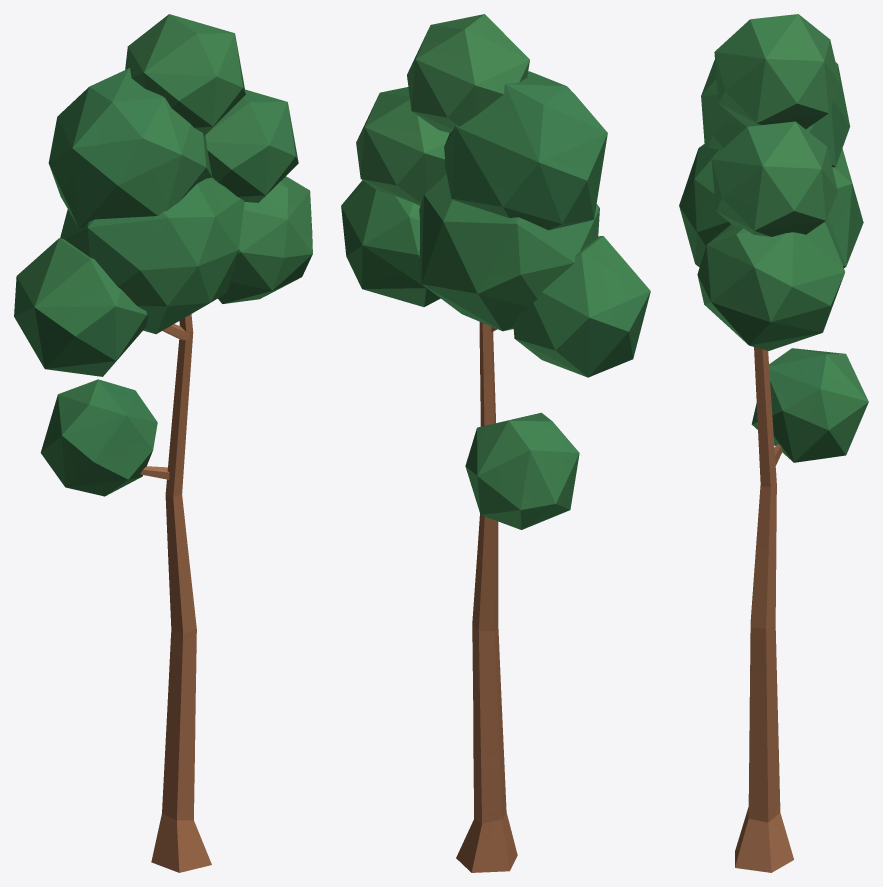
The model's file is tree1.fbx.
The picture shows the model from 3 angles, left to right: view 1: azimuth 30°, elevation 25°; view 2: azimuth 150°, elevation 25°; view 3: azimuth 270°, elevation 25°; orthographic projection. The views are drawn at different scales.
Visible parts, largest first — view 1: tree-birch-tall; view 2: tree-birch-tall; view 3: tree-birch-tall.
Part boxes in pixels (x1,y1,x2,y2): tree-birch-tall: (14, 14, 312, 872); tree-birch-tall: (341, 14, 650, 872); tree-birch-tall: (679, 14, 868, 872).
Size of the model in its own units: 289 by 796 by 162.
Materials: 1 (1 with a texture image).
